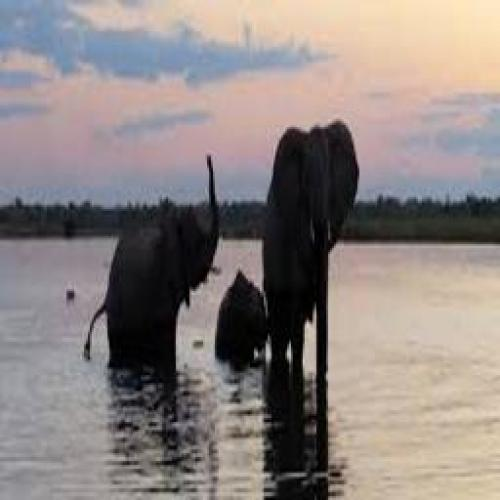african_elephant-endangered: (82, 152, 220, 387), (259, 120, 363, 378), (215, 276, 270, 370)
